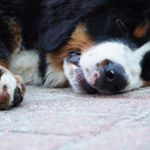puppy: (29, 3, 150, 99)
